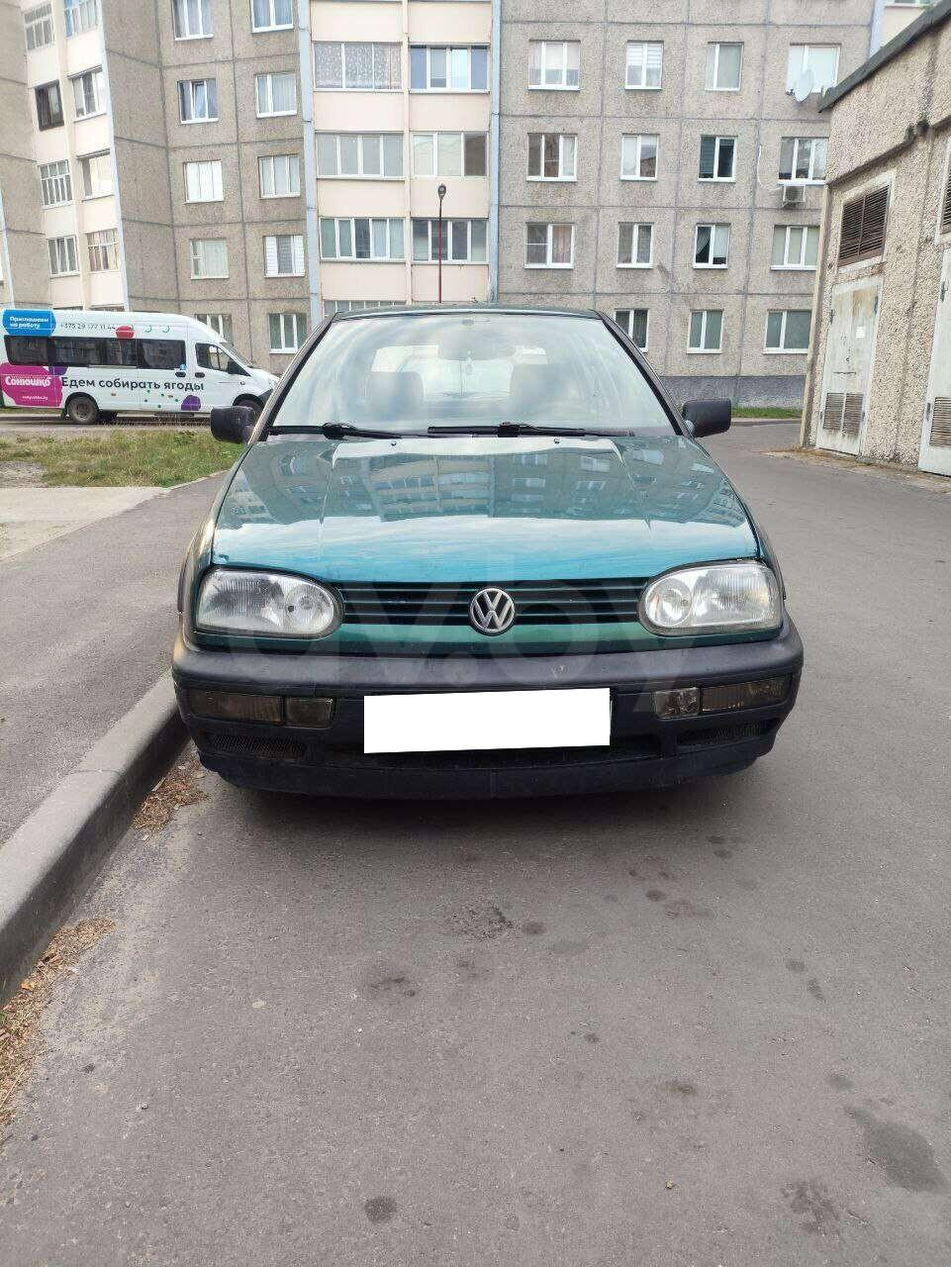Golf_1991-2000: (166, 310, 808, 813)
